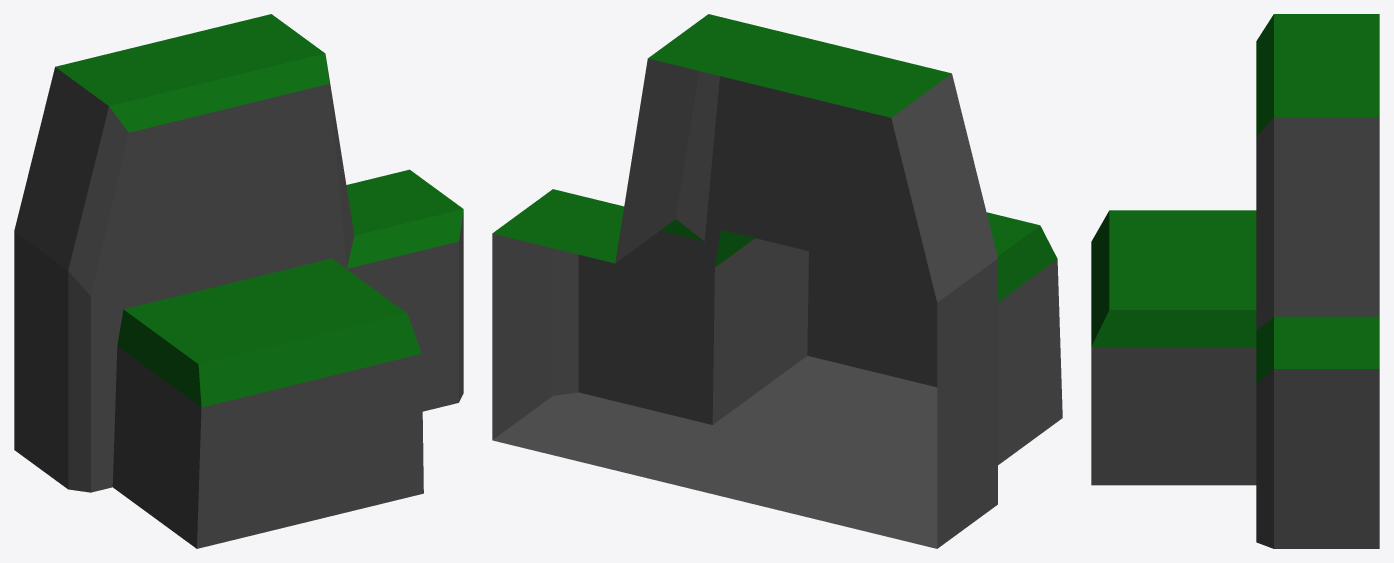
File: Hill1.fbx
3 views of the same model, side by side, from view 1: azimuth 30°, elevation 25°; view 2: azimuth 150°, elevation 25°; view 3: azimuth 270°, elevation 25° (orthographic). The views are drawn at different scales.
Visible parts, largest first — view 1: Hiill1; view 2: Hiill1; view 3: Hiill1.
Part boxes in pixels (x1,y1,x2,y2): Hiill1: (14,14,463,548); Hiill1: (492,14,1062,548); Hiill1: (1091,14,1379,548).
Size of the model in its own units: 726 by 655 by 468.
